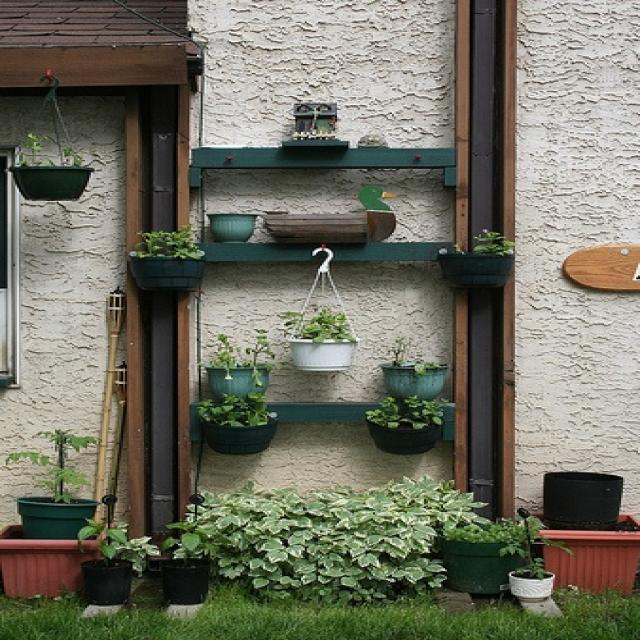pottedplant: (4, 426, 100, 539), (443, 504, 542, 599), (201, 326, 282, 407), (5, 132, 94, 203), (72, 516, 138, 607), (272, 304, 360, 372), (500, 507, 560, 603), (434, 228, 520, 294), (195, 393, 280, 458), (370, 335, 454, 398), (363, 389, 447, 449), (159, 518, 216, 604), (131, 226, 206, 290)
